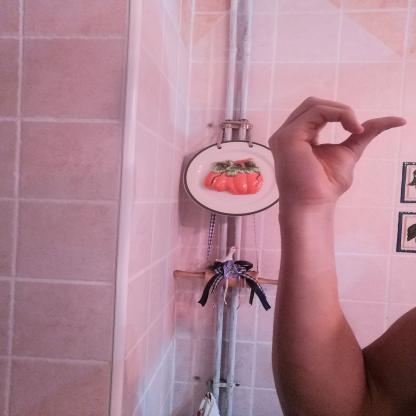WAW: (258, 90, 412, 212)
